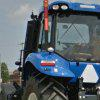Tractor: (20, 2, 100, 100)
